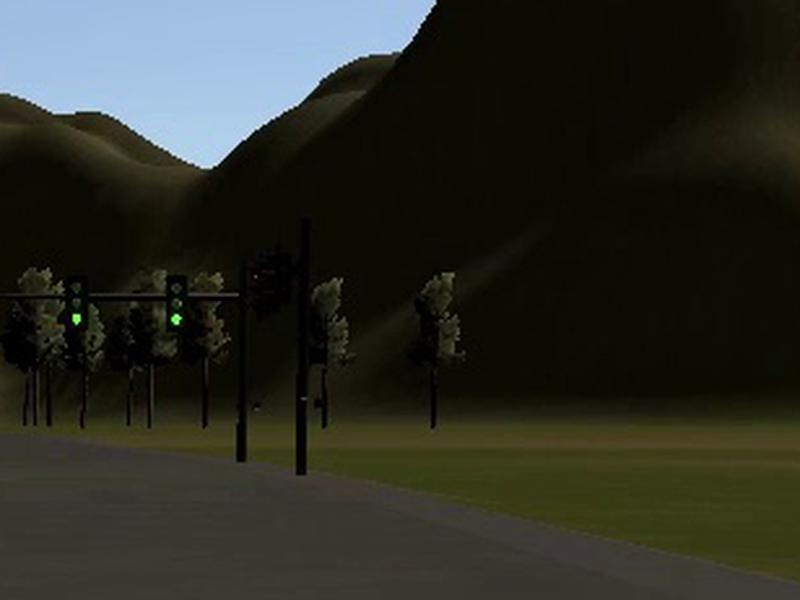Green: (165, 275, 188, 333), (65, 278, 88, 332)
